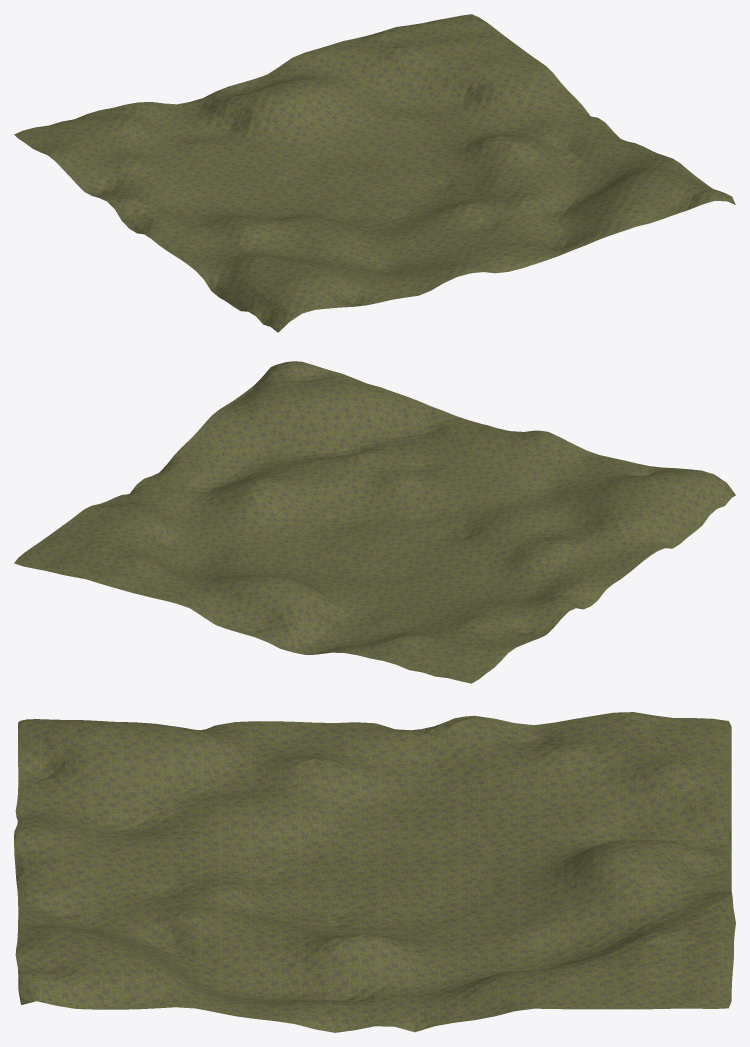
File: GrassyGround.obj
3 renders of one model, top to bottom at view 1: azimuth 30°, elevation 25°; view 2: azimuth 150°, elevation 25°; view 3: azimuth 270°, elevation 25°, orthographic. The views are drawn at different scales.
Parts seen in each view (by area): view 1: Grid; view 2: Grid; view 3: Grid.
Boxes of the visible parts, box(x1,y1,x2,y2) form: Grid: box(14, 14, 735, 332); Grid: box(14, 361, 735, 683); Grid: box(14, 712, 735, 1032).
Size of the model in its own units: 79.73 by 6.05 by 80.58.
1 material, 1 textured.
